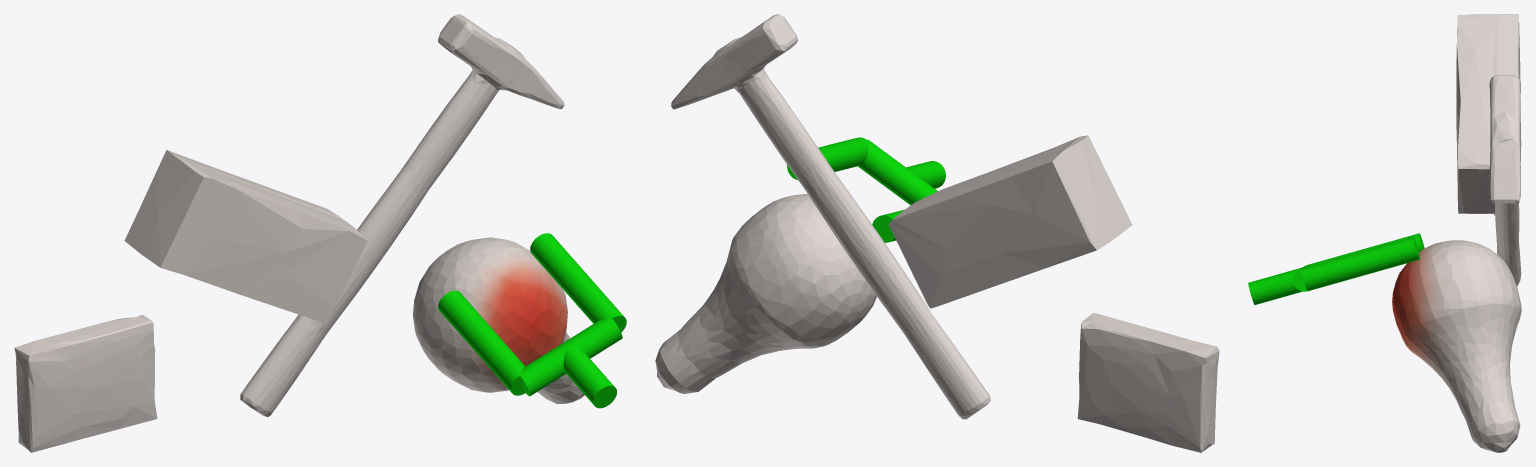
File: round_000_trial_001.obj
The picture shows the model from 3 angles, left to right: view 1: azimuth 30°, elevation 25°; view 2: azimuth 150°, elevation 25°; view 3: azimuth 270°, elevation 25°; orthographic projection. The views are drawn at different scales.
Visible parts, largest first — view 1: geometry_0, geometry_1; view 2: geometry_0, geometry_1; view 3: geometry_0, geometry_1.
Part boxes in pixels (box(x1,y1,x2,y2)): geometry_0: box(14, 14, 584, 452); geometry_1: box(438, 233, 626, 408); geometry_0: box(655, 14, 1219, 452); geometry_1: box(787, 137, 945, 242); geometry_0: box(1392, 14, 1521, 452); geometry_1: box(1248, 233, 1424, 304).
Size of the model in its own units: 0.2322 by 0.1587 by 0.117.
